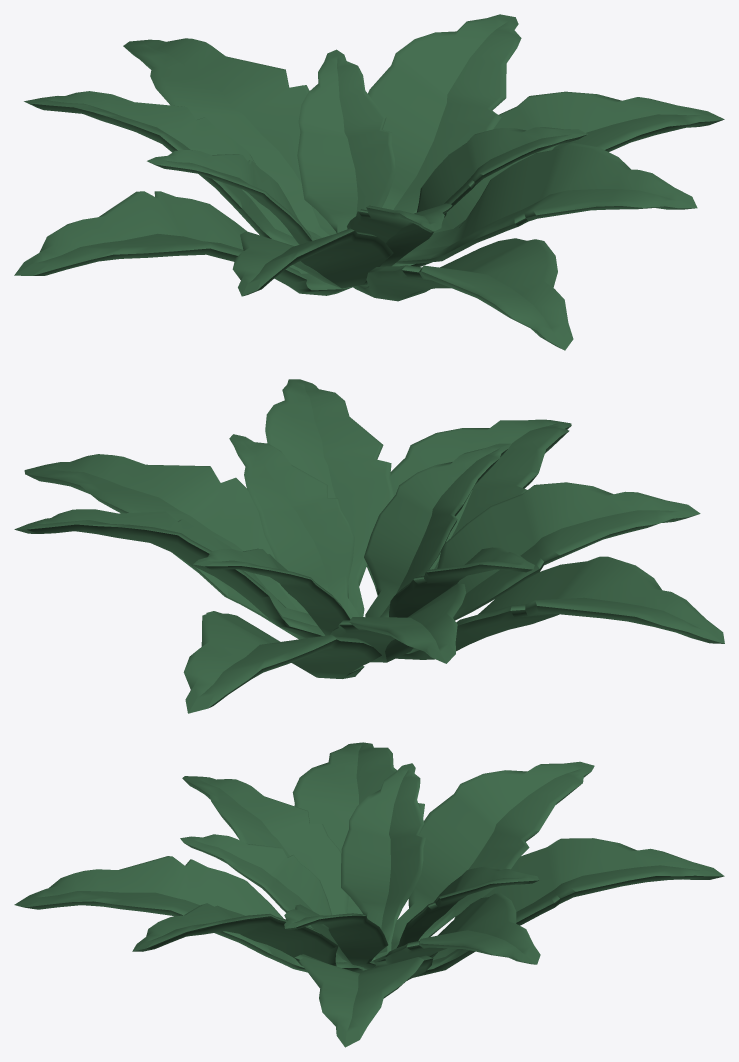
File: Fern_01.fbx
3 views of the same model, one above another, from view 1: azimuth 30°, elevation 25°; view 2: azimuth 150°, elevation 25°; view 3: azimuth 270°, elevation 25° (orthographic). The views are drawn at different scales.
Visible parts, largest first — view 1: polySurface7, polySurface4, polySurface9, polySurface12, polySurface1, polySurface5, polySurface6, polySurface10, polySurface8, polySurface14, polySurface11, polySurface13; view 2: polySurface8, polySurface6, polySurface1, polySurface9, polySurface14, polySurface13, polySurface4, polySurface5, polySurface7, polySurface10, polySurface12, polySurface11; view 3: polySurface10, polySurface5, polySurface11, polySurface4, polySurface8, polySurface1, polySurface9, polySurface6, polySurface7, polySurface13, polySurface14, polySurface12.
Boxes of the visible parts, x1,y1,x2,y2 form: polySurface7: [368, 14, 521, 213]; polySurface4: [123, 38, 336, 237]; polySurface9: [395, 142, 697, 263]; polySurface12: [297, 49, 395, 232]; polySurface1: [14, 191, 352, 295]; polySurface5: [352, 238, 573, 350]; polySurface6: [392, 91, 724, 266]; polySurface10: [24, 91, 322, 246]; polySurface8: [232, 228, 393, 296]; polySurface14: [417, 127, 587, 212]; polySurface11: [147, 149, 318, 244]; polySurface13: [347, 203, 452, 266]; polySurface8: [437, 482, 700, 620]; polySurface6: [24, 454, 308, 639]; polySurface1: [396, 556, 724, 659]; polySurface9: [265, 379, 394, 616]; polySurface14: [229, 434, 359, 619]; polySurface13: [364, 443, 511, 617]; polySurface4: [183, 611, 381, 713]; polySurface5: [366, 419, 571, 595]; polySurface7: [14, 509, 324, 638]; polySurface10: [330, 583, 465, 663]; polySurface12: [193, 548, 350, 635]; polySurface11: [389, 547, 534, 617]; polySurface10: [391, 761, 594, 950]; polySurface5: [14, 856, 307, 972]; polySurface11: [341, 763, 425, 953]; polySurface4: [413, 838, 724, 977]; polySurface8: [182, 776, 375, 960]; polySurface1: [292, 742, 424, 959]; polySurface9: [132, 903, 363, 972]; polySurface6: [294, 954, 433, 1047]; polySurface7: [374, 893, 540, 967]; polySurface13: [180, 834, 338, 954]; polySurface14: [284, 904, 388, 969]; polySurface12: [373, 866, 539, 962].
Size of the model in its own units: 34.17 by 7.11 by 34.36.
